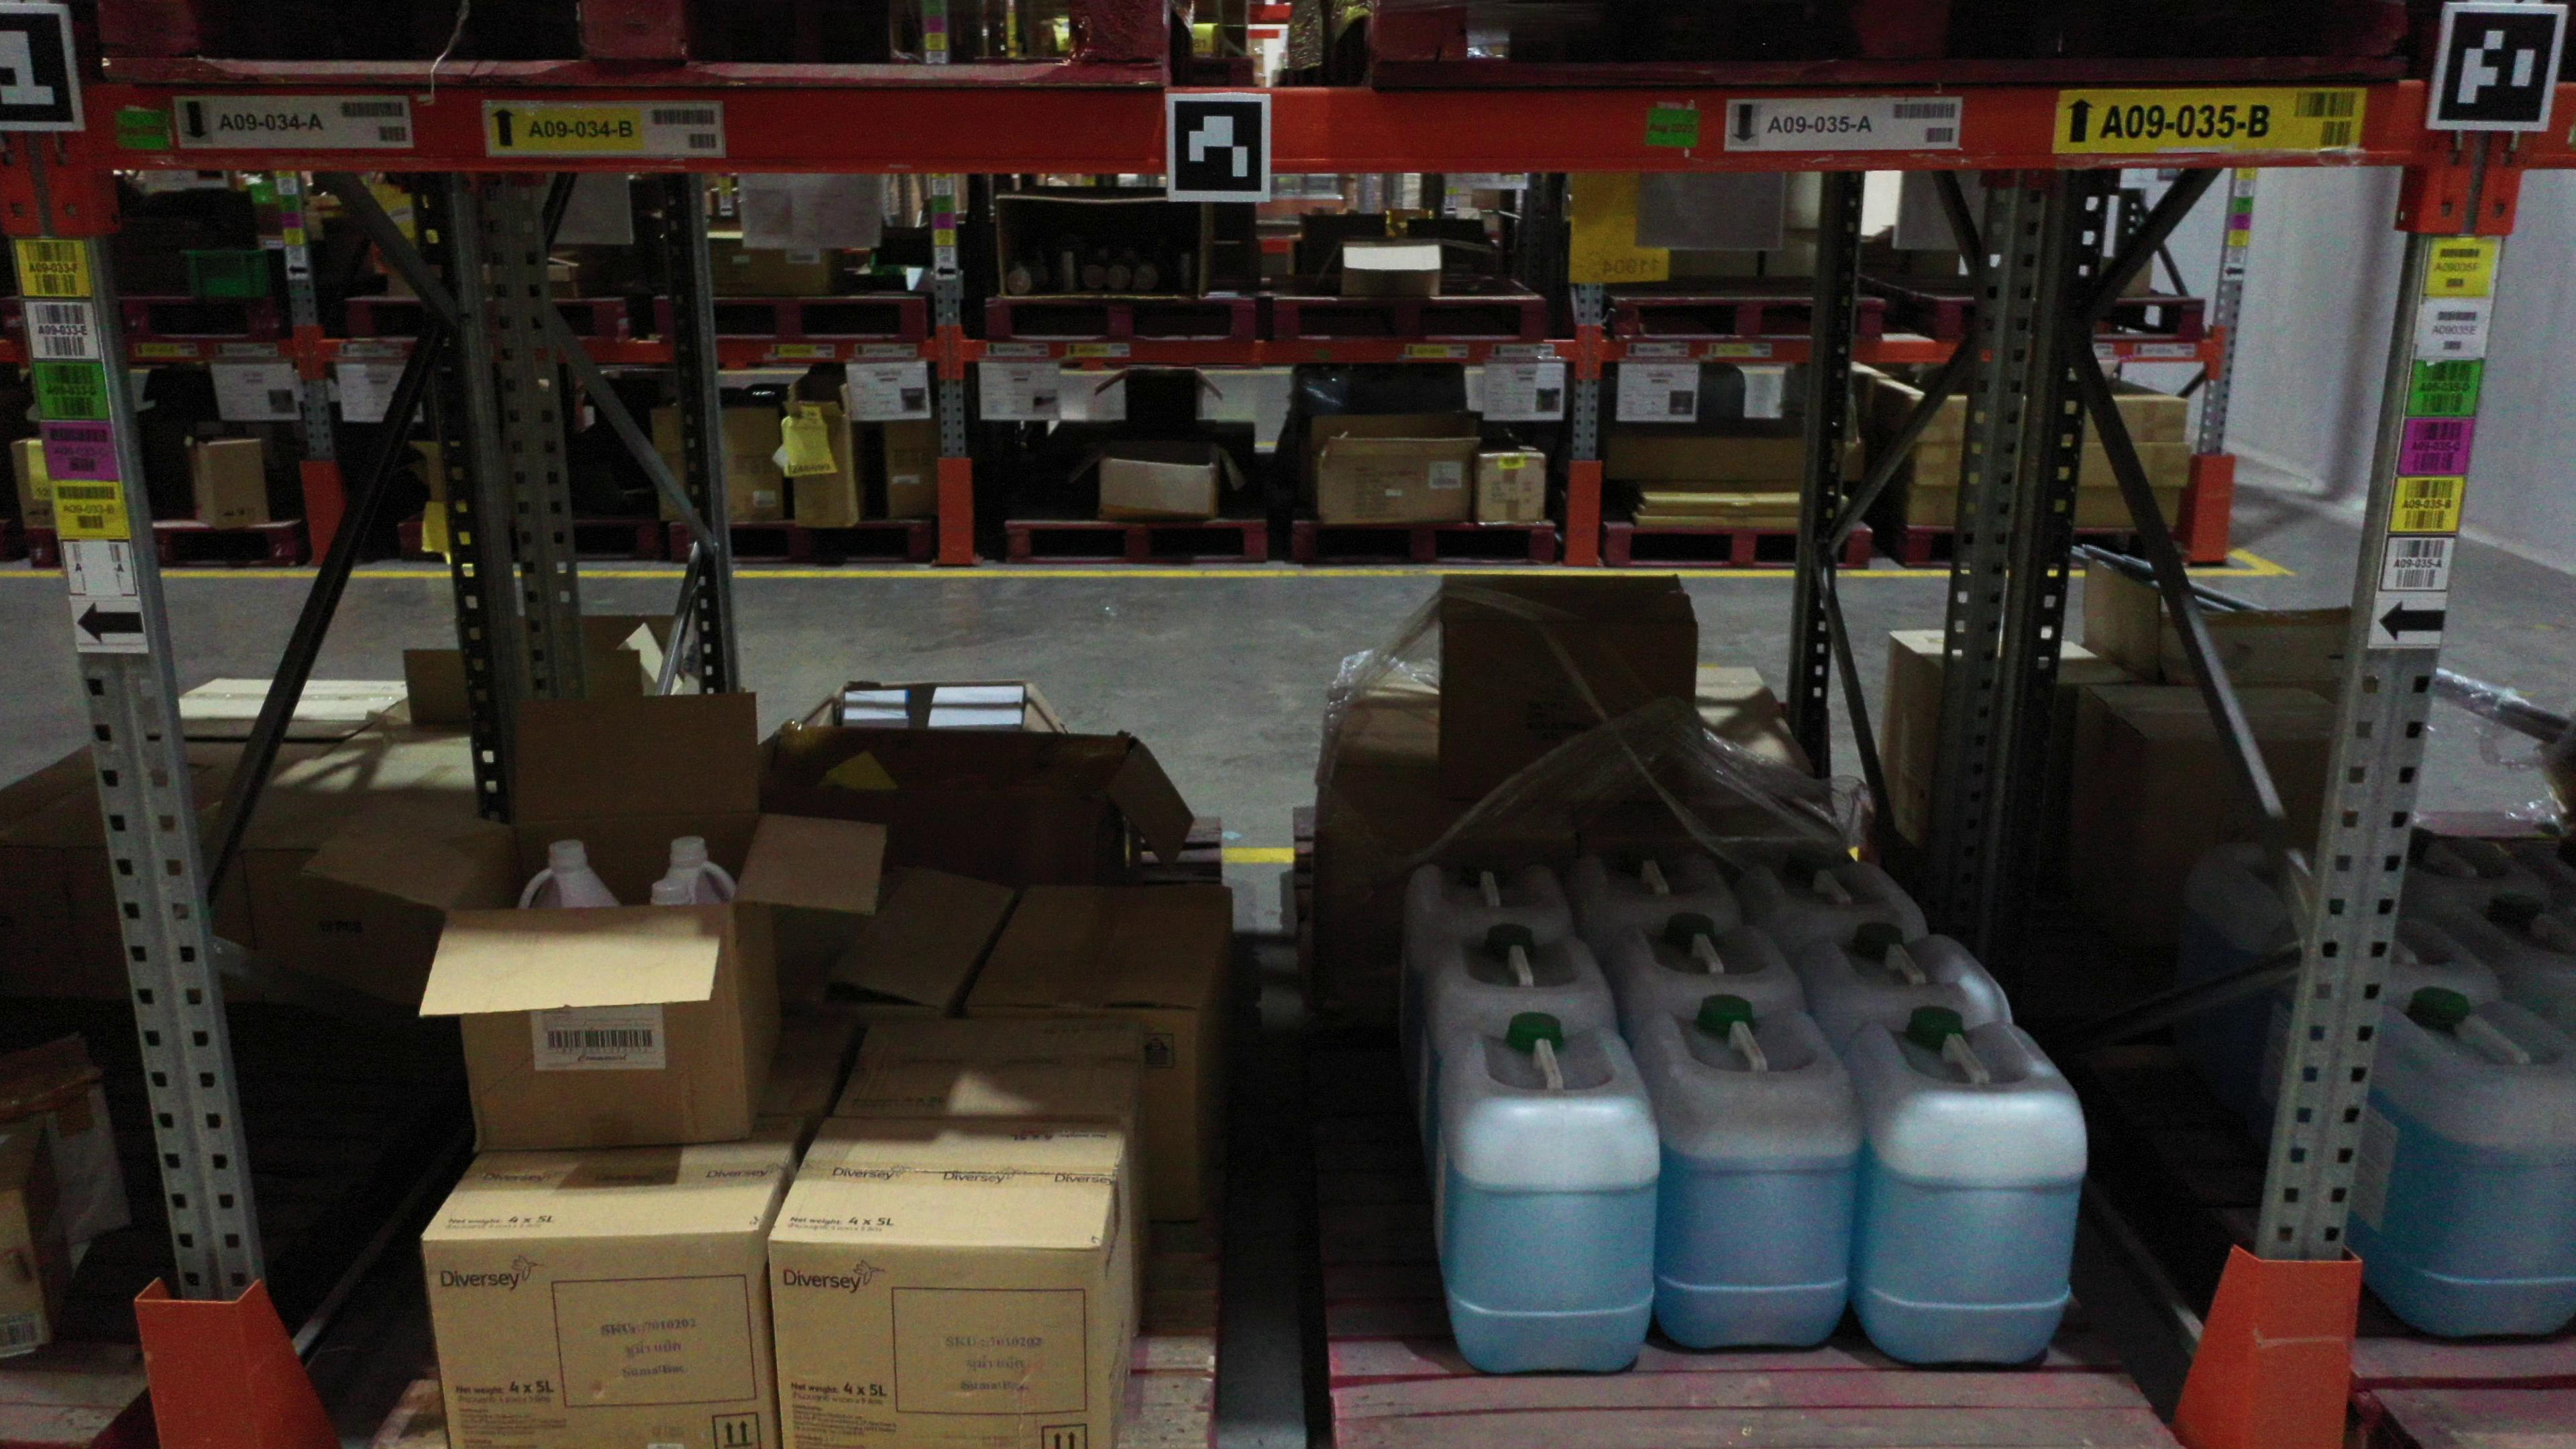-: (425, 1230, 785, 1449), (449, 904, 753, 1156), (767, 1232, 1107, 1449), (1860, 1098, 2091, 1366), (1449, 1095, 1662, 1375), (1655, 1100, 1872, 1346), (1444, 612, 1695, 803), (2404, 1075, 2576, 1337)
